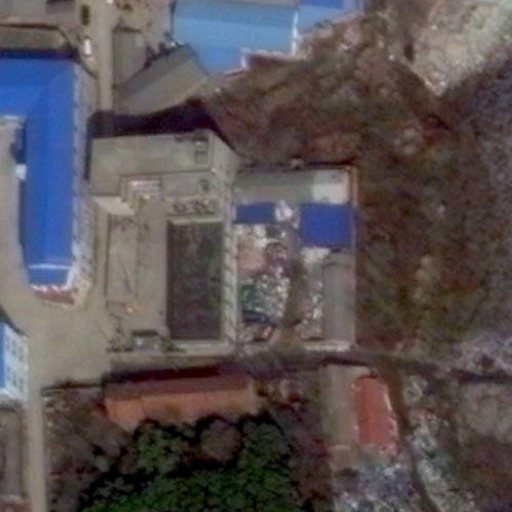msw: (236, 225, 325, 339)
